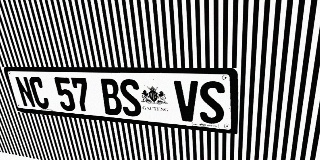5: (53, 77, 77, 112)
7: (69, 78, 93, 113)
B: (99, 78, 123, 116)
C: (28, 77, 51, 109)
N: (14, 76, 37, 108)
S: (199, 81, 225, 125), (118, 79, 143, 117)
V: (174, 80, 199, 122)
